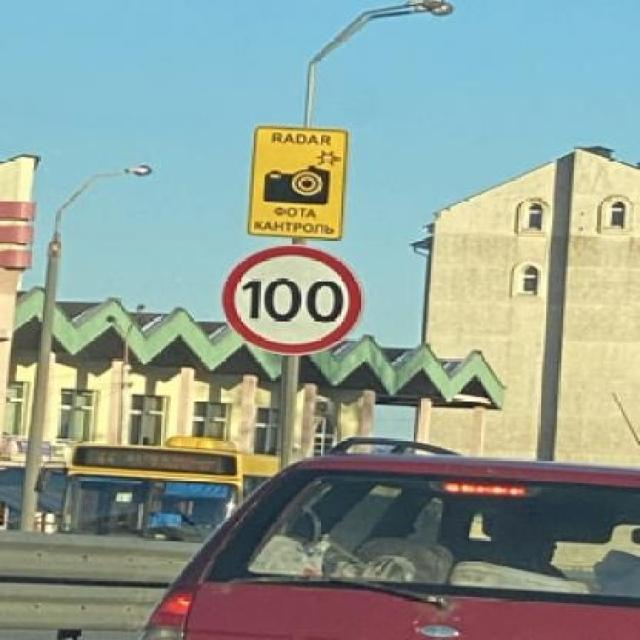forb_speed_over_100: (223, 243, 366, 354)
